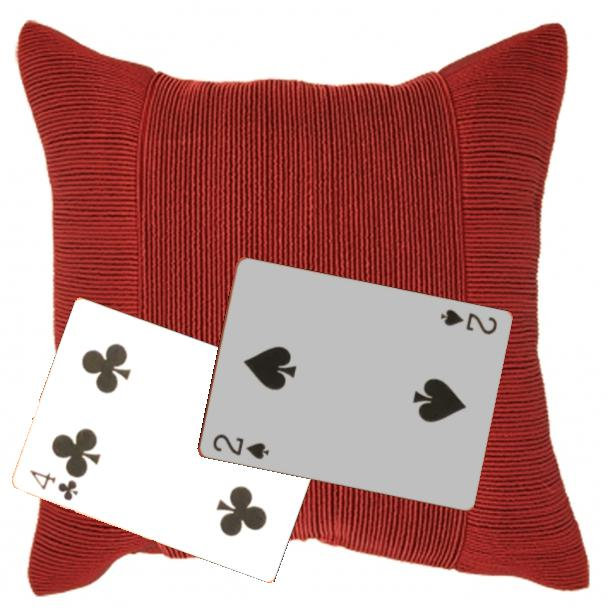c04: (27, 466, 82, 503)
s02: (437, 306, 500, 338), (209, 431, 272, 462)
